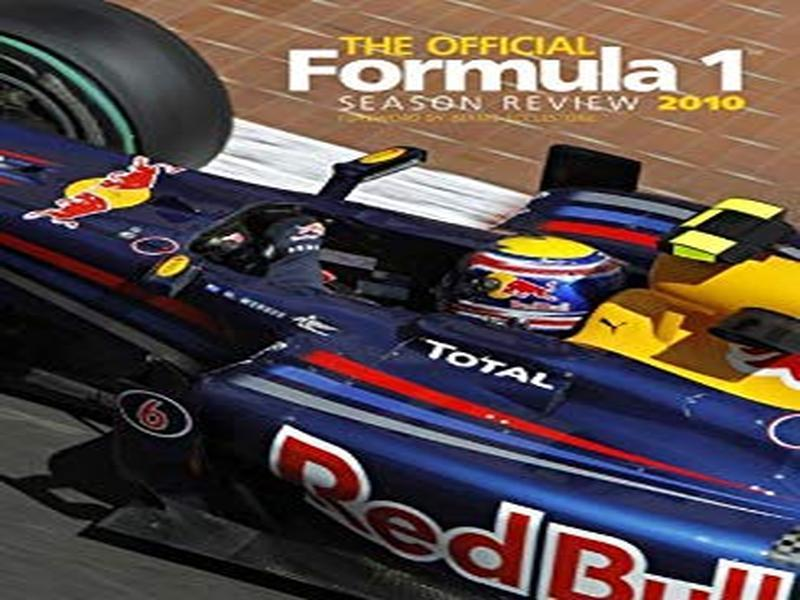f1: (1, 1, 800, 597)
